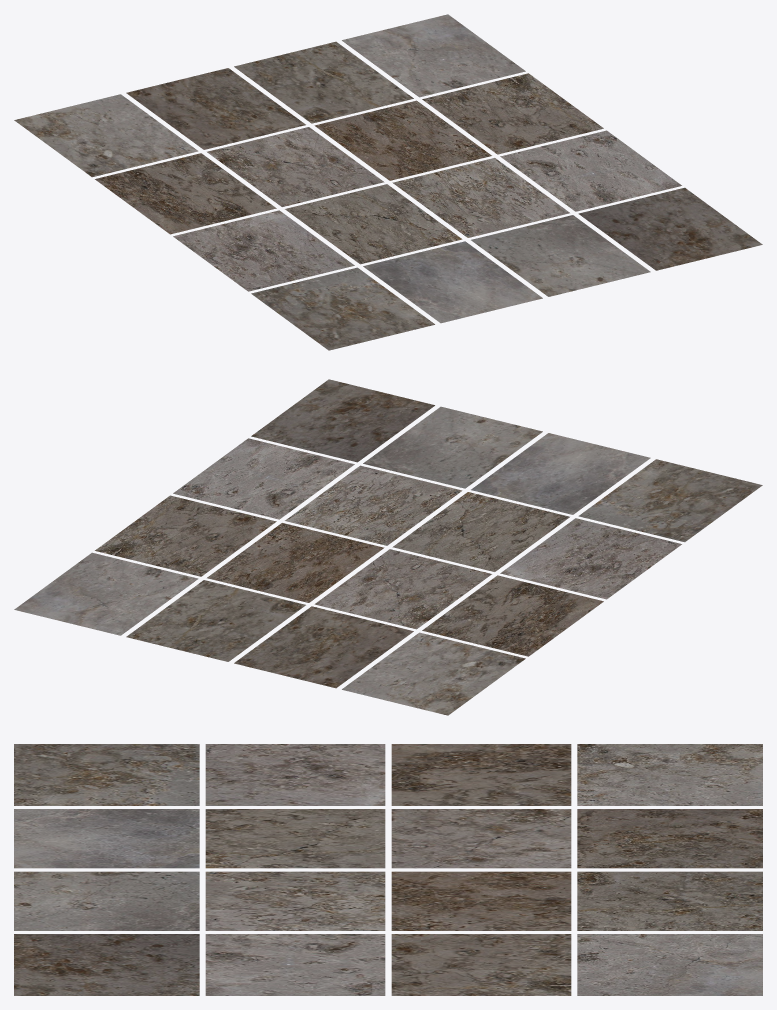
The model's file is piso.fbx.
3 renders of one model, top to bottom at view 1: azimuth 30°, elevation 25°; view 2: azimuth 150°, elevation 25°; view 3: azimuth 270°, elevation 25°, orthographic. The views are drawn at different scales.
Parts seen in each view (by area): view 1: Piso; view 2: Piso; view 3: Piso.
Part boxes in pixels (x1,y1,x2,y2): Piso: (14, 14, 762, 350); Piso: (14, 379, 762, 715); Piso: (14, 744, 762, 995).
Size of the model in its own units: 3178 by 0 by 3993.
